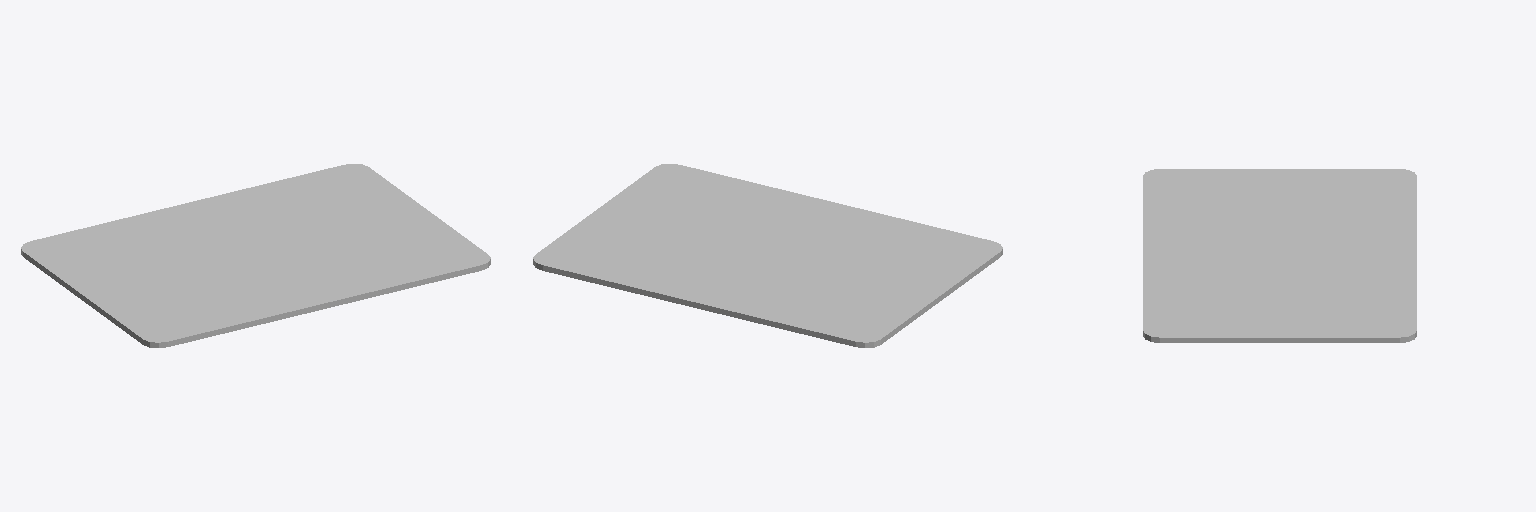
The model's file is keycard.obj.
3 views of the same model, side by side, from view 1: azimuth 30°, elevation 25°; view 2: azimuth 150°, elevation 25°; view 3: azimuth 270°, elevation 25° (orthographic).
Parts seen in each view (by area): view 1: World; view 2: World; view 3: World.
Boxes of the visible parts, x1,y1,x2,y2 form: World: [21, 164, 490, 347]; World: [533, 164, 1002, 347]; World: [1143, 169, 1416, 342].
Size of the model in its own units: 256 by 4 by 176.